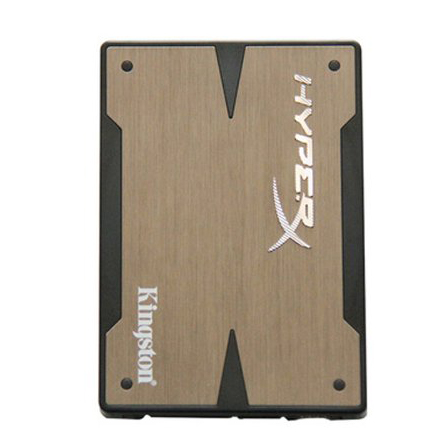Kingston: (125, 271, 167, 395)
